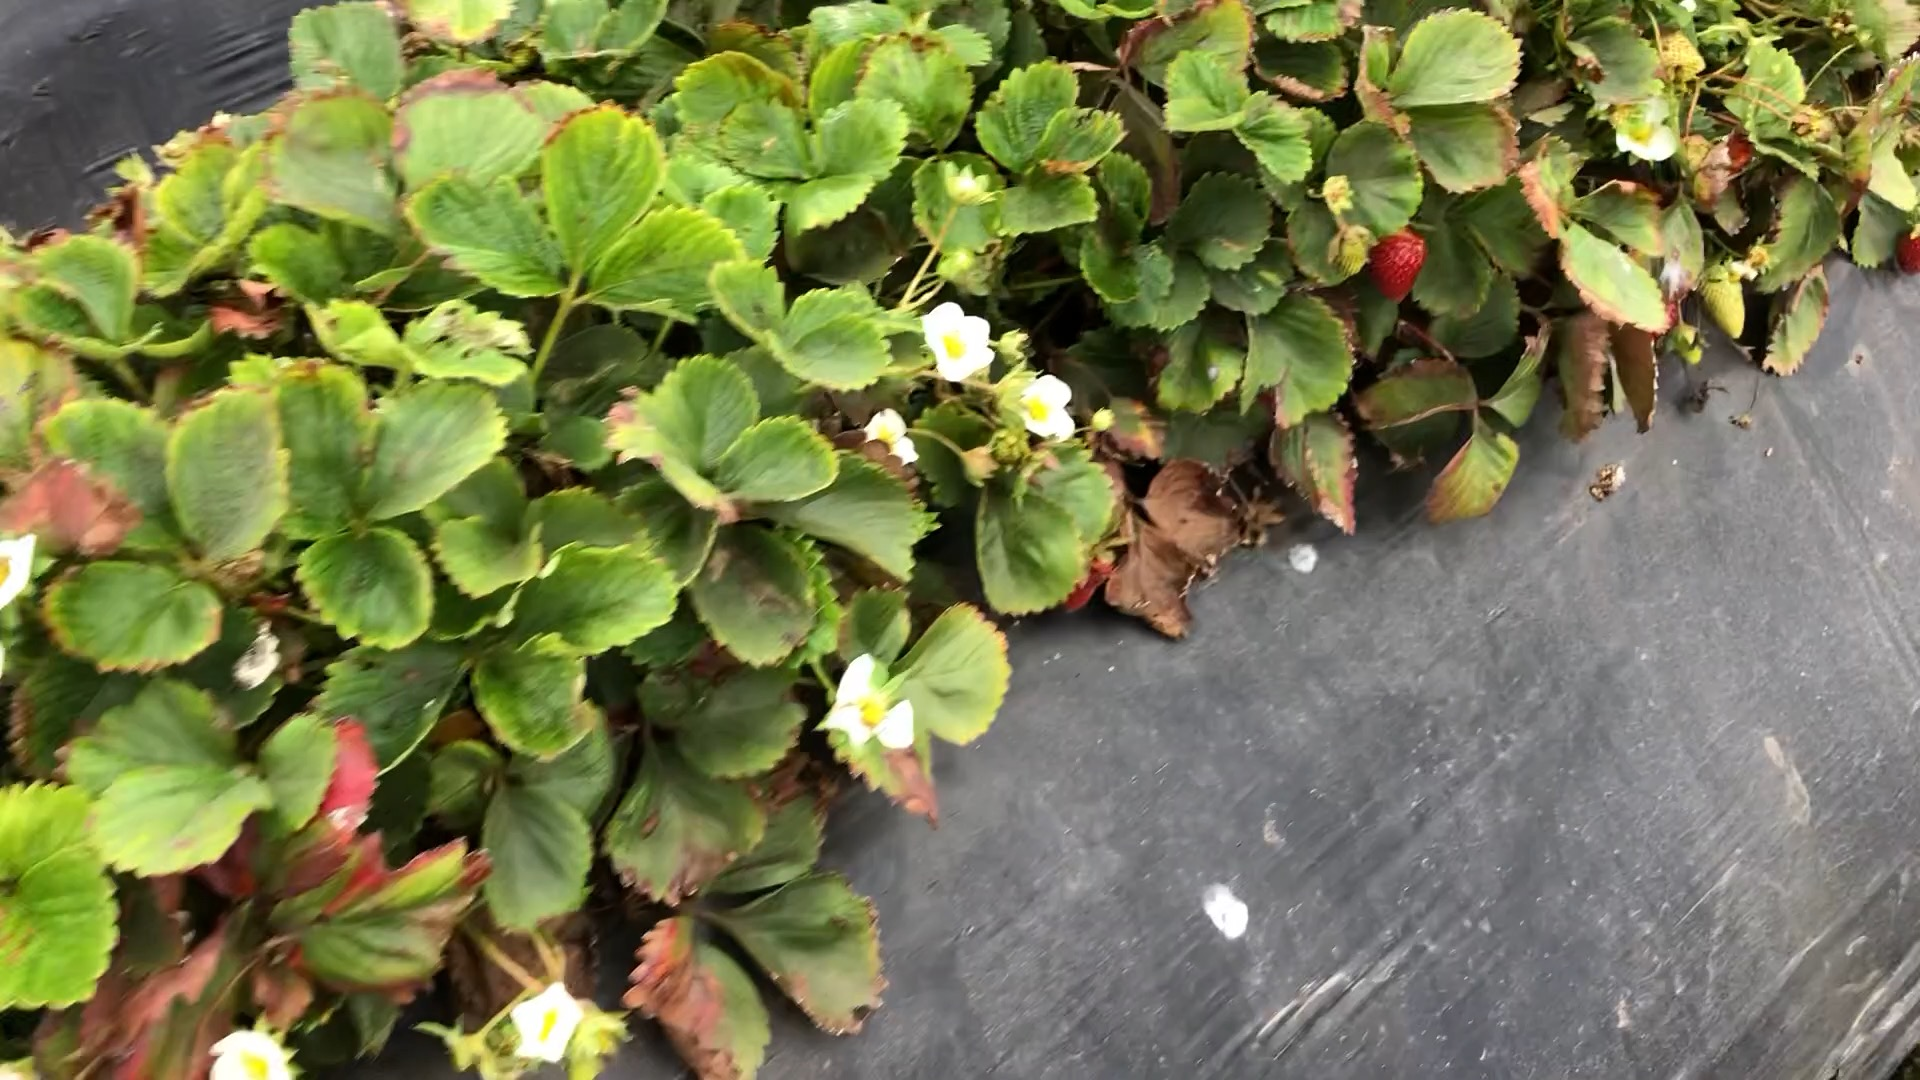ripe_strawberry: (1369, 225, 1429, 307), (1888, 225, 1920, 284)
unripe_strawberry: (1702, 262, 1756, 344), (1327, 222, 1371, 284)
